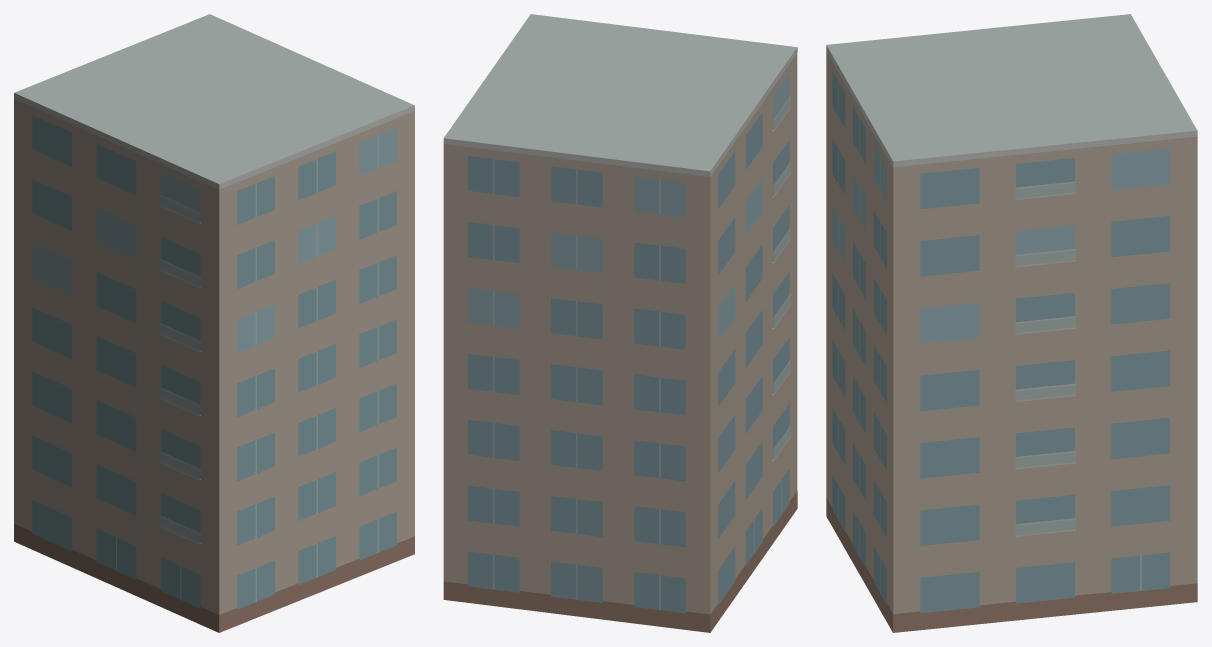
File: survey-upis-32984558.glb
3 renders of one model, left to right at view 1: azimuth 30°, elevation 25°; view 2: azimuth 150°, elevation 25°; view 3: azimuth 270°, elevation 25°, orthographic. The views are drawn at different scales.
Parts seen in each view (by area): view 1: survey-upis-32984558.tmp; view 2: survey-upis-32984558.tmp; view 3: survey-upis-32984558.tmp.
Boxes of the visible parts, x1,y1,x2,y2 form: survey-upis-32984558.tmp: (14,14,414,632); survey-upis-32984558.tmp: (443,14,797,632); survey-upis-32984558.tmp: (826,14,1197,632).
Size of the model in its own units: 13.09 by 19.5 by 13.93.
